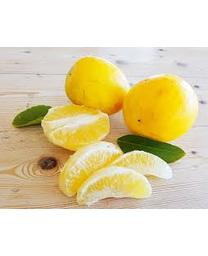lemon: (123, 76, 200, 141), (66, 58, 129, 117), (59, 143, 122, 195), (43, 103, 110, 150), (78, 167, 153, 201)
